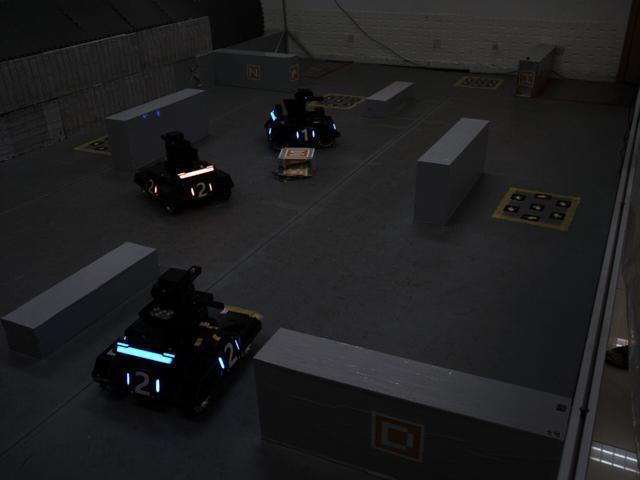armor: (122, 364, 165, 406), (213, 333, 244, 377), (179, 180, 219, 201), (291, 125, 319, 146), (139, 174, 159, 202)
